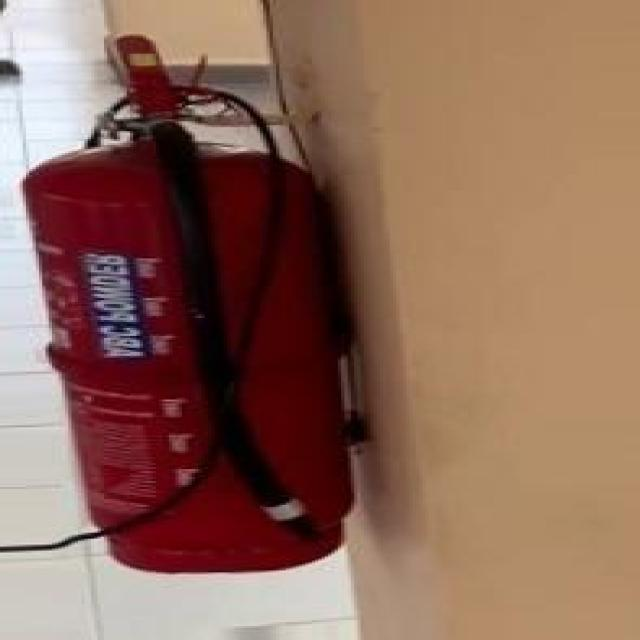fire_extinguisher: (14, 31, 356, 579)
